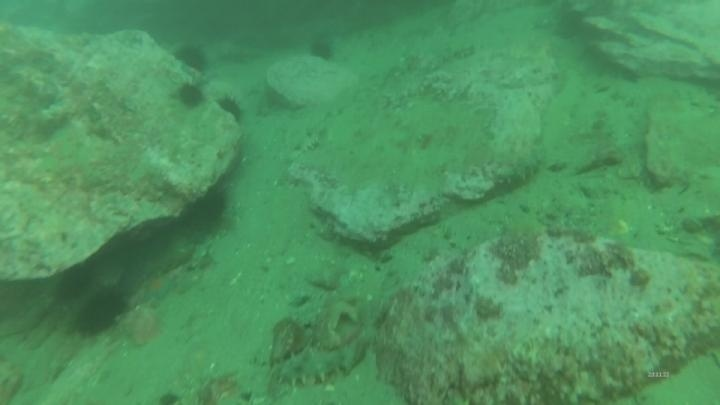echinus: (71, 284, 130, 338), (180, 185, 231, 236), (52, 262, 97, 304), (172, 41, 211, 75), (214, 93, 247, 127), (174, 80, 207, 111), (306, 36, 338, 65)
holothurian: (271, 339, 369, 390), (486, 146, 545, 193)
starfish: (137, 269, 179, 306)
